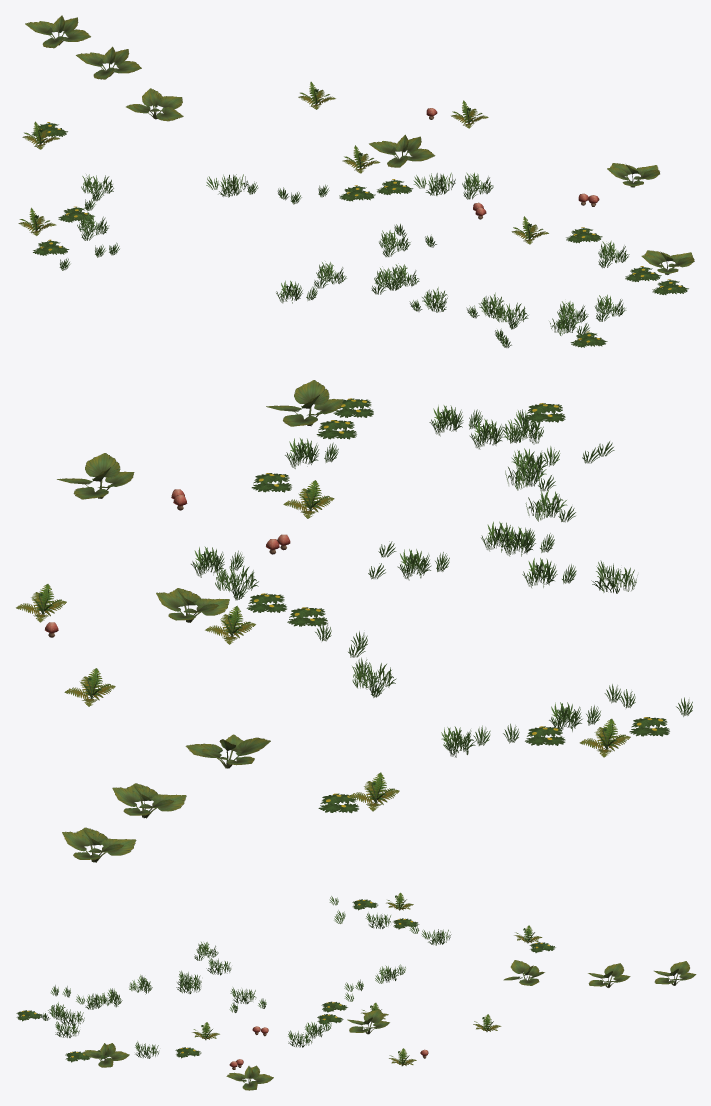
File: scene_senlincaodi_zhiwu002.FBX
The picture shows the model from 3 angles, top to bottom: view 1: azimuth 30°, elevation 25°; view 2: azimuth 150°, elevation 25°; view 3: azimuth 270°, elevation 25°; orthographic projection. The views are drawn at different scales.
Parts seen in each view (by area): view 1: scene_senlincaodi_zhiwu002; view 2: scene_senlincaodi_zhiwu002; view 3: scene_senlincaodi_zhiwu002.
Boxes of the visible parts, left/top/right/bottom form: scene_senlincaodi_zhiwu002: left=18, top=15, right=694, bottom=347; scene_senlincaodi_zhiwu002: left=16, top=380, right=692, bottom=862; scene_senlincaodi_zhiwu002: left=16, top=892, right=696, bottom=1090.
Size of the model in its own units: 2480 by 121 by 3617.
